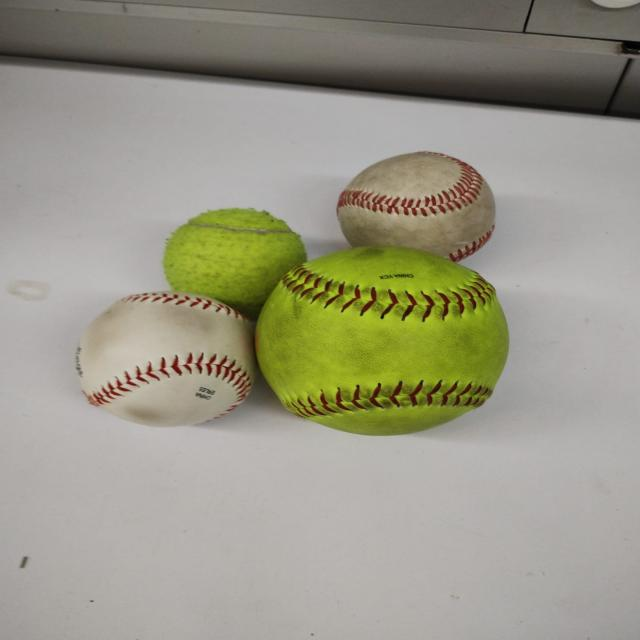beisbol ball: (76, 291, 260, 426), (336, 152, 495, 261)
softball ball: (253, 245, 511, 432)
tenis ball: (162, 207, 310, 317)
